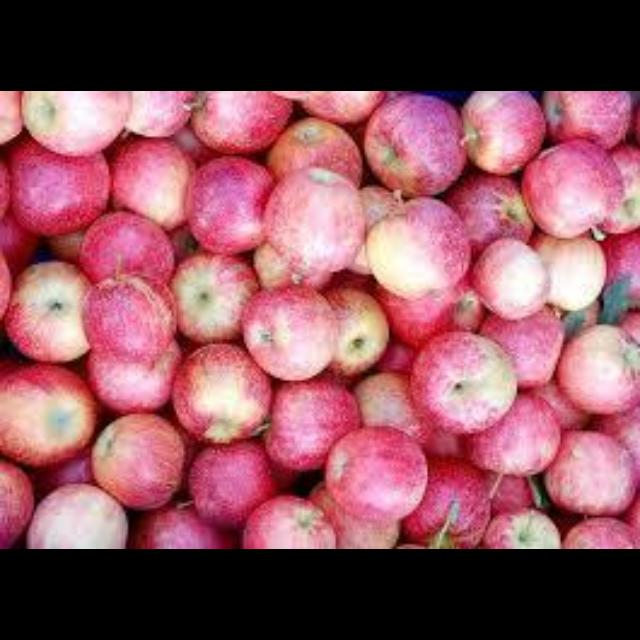apple: (263, 166, 362, 275), (408, 333, 514, 432), (365, 197, 469, 296), (365, 93, 464, 195), (0, 364, 97, 465), (171, 345, 270, 441), (242, 287, 336, 378), (266, 378, 357, 470), (82, 272, 174, 361), (401, 458, 488, 547), (543, 432, 635, 514), (111, 137, 193, 229), (555, 325, 638, 415), (374, 279, 483, 347), (461, 91, 543, 173), (22, 91, 128, 154), (80, 212, 174, 282), (471, 238, 548, 318), (27, 485, 126, 547), (541, 91, 630, 147)
